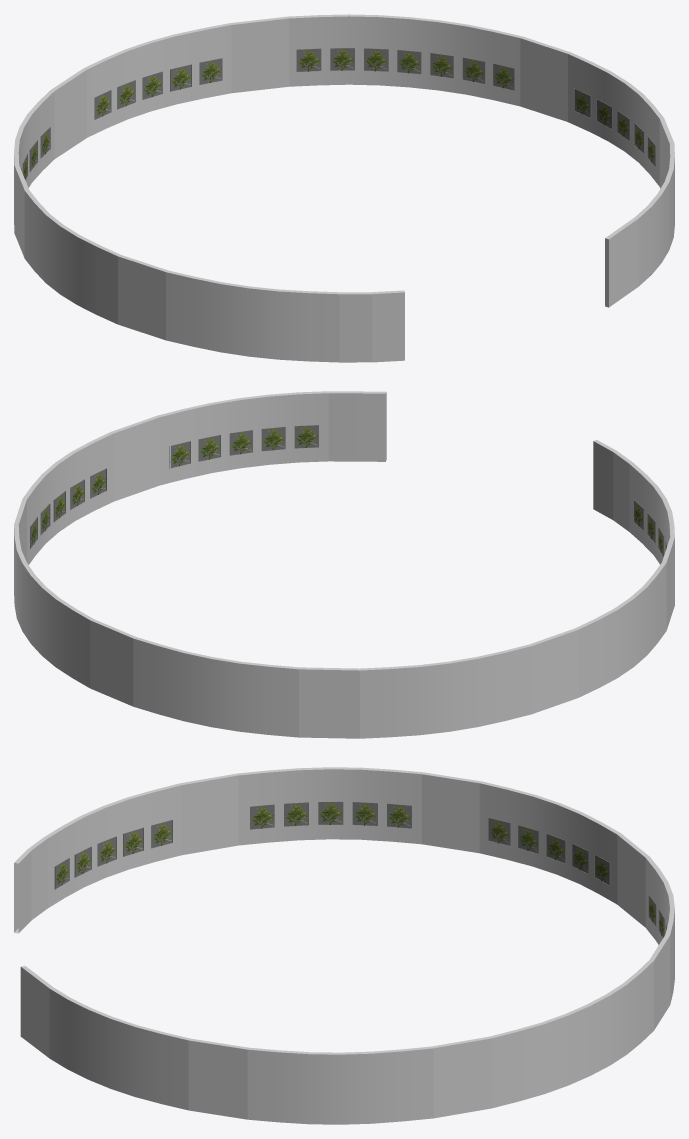
File: unn_future_add.fbx
3 renders of one model, top to bottom at view 1: azimuth 30°, elevation 25°; view 2: azimuth 150°, elevation 25°; view 3: azimuth 270°, elevation 25°, orthographic. The views are drawn at different scales.
Visible parts, largest first — view 1: Object2086, Cylinder3827, Box3592, Box3594, Box3595, Box3593, Box3596, Box3591, Box3609; view 2: Object2086, Cylinder3827, Box3606, Box3605, Box3604, Box3603; view 3: Object2086, Cylinder3827, Box3580, Box3579, Box3577, Box3578, Box3581, Box3582.
Boxes of the visible parts, bbox=[...] form: Object2086: bbox=[14, 14, 674, 362]; Cylinder3827: bbox=[14, 16, 674, 362]; Box3592: bbox=[296, 48, 321, 71]; Box3594: bbox=[364, 48, 388, 71]; Box3595: bbox=[397, 50, 421, 74]; Box3593: bbox=[330, 48, 354, 70]; Box3596: bbox=[430, 53, 453, 78]; Box3591: bbox=[199, 58, 222, 84]; Box3609: bbox=[462, 57, 485, 83]; Object2086: bbox=[14, 391, 674, 738]; Cylinder3827: bbox=[14, 391, 674, 738]; Box3606: bbox=[294, 425, 318, 448]; Box3605: bbox=[261, 426, 285, 451]; Box3604: bbox=[229, 430, 252, 455]; Box3603: bbox=[198, 435, 220, 461]; Object2086: bbox=[44, 767, 674, 1124]; Cylinder3827: bbox=[14, 772, 670, 1119]; Box3580: bbox=[352, 802, 377, 826]; Box3579: bbox=[318, 801, 343, 824]; Box3577: bbox=[250, 804, 274, 829]; Box3578: bbox=[284, 802, 308, 826]; Box3581: bbox=[387, 803, 411, 828]; Box3582: bbox=[488, 817, 510, 845].
Size of the model in its own units: 142788 by 16230 by 138769.
